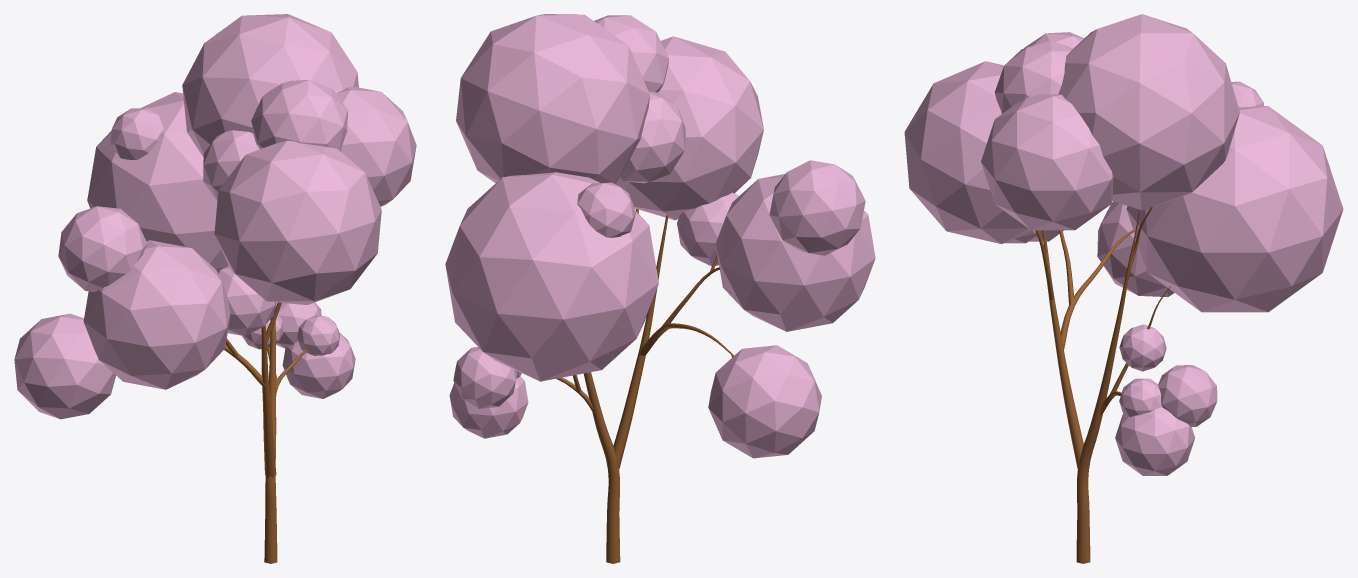
Rendered from tree.fbx.
3 renders of one model, left to right at view 1: azimuth 30°, elevation 25°; view 2: azimuth 150°, elevation 25°; view 3: azimuth 270°, elevation 25°, orthographic. The views are drawn at different scales.
Visible parts, largest first — view 1: Icosphere.001; view 2: Icosphere.001; view 3: Icosphere.001.
Boxes of the visible parts, x1,y1,x2,y2 form: Icosphere.001: [14, 14, 416, 563]; Icosphere.001: [445, 14, 875, 563]; Icosphere.001: [904, 14, 1343, 563].
Bounding box in the file's own units: 528 × 762 × 551.
